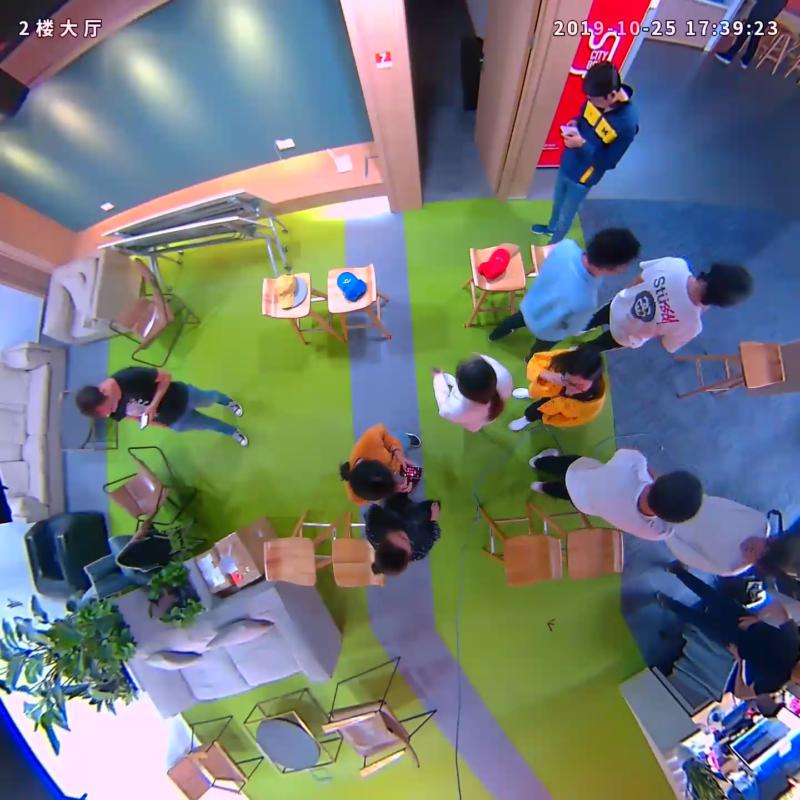head: (646, 470, 704, 524), (585, 227, 639, 278), (701, 263, 754, 309), (739, 535, 791, 577), (350, 457, 396, 502), (455, 356, 497, 405), (562, 345, 602, 395), (582, 59, 620, 108), (375, 528, 413, 574), (75, 383, 118, 419)
